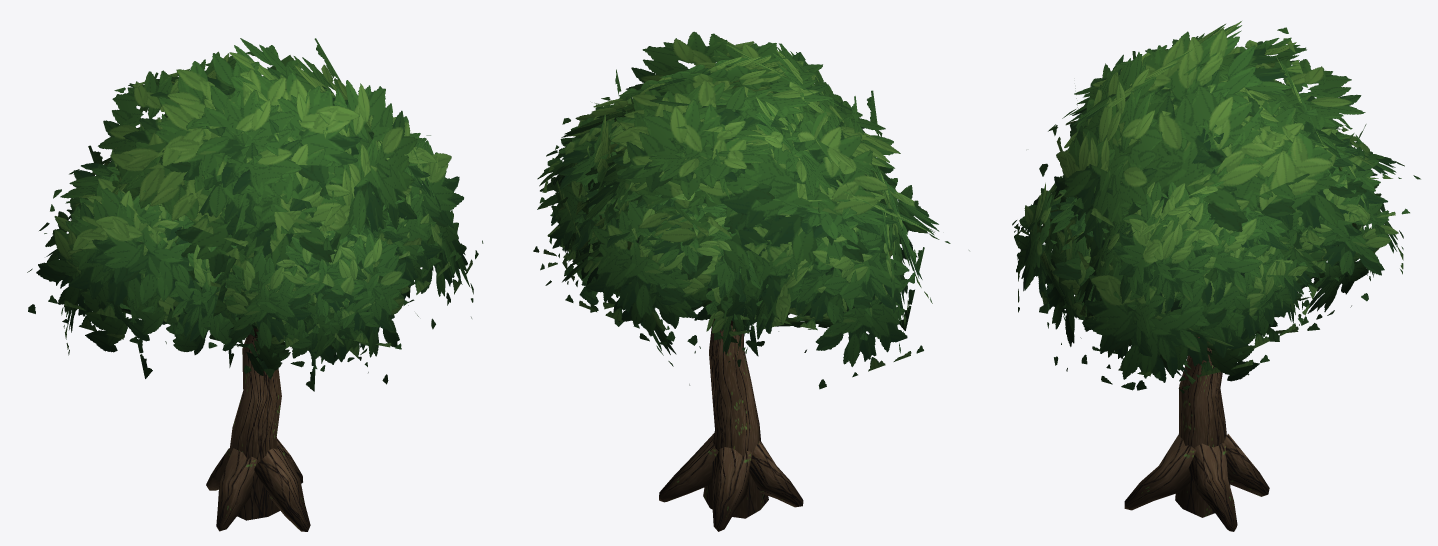
Rendered from tree_oak_dark.glb.
The picture shows the model from 3 angles, left to right: view 1: azimuth 30°, elevation 25°; view 2: azimuth 150°, elevation 25°; view 3: azimuth 270°, elevation 25°; orthographic projection. The views are drawn at different scales.
Parts seen in each view (by area): view 1: tree_oak_dark; view 2: tree_oak_dark; view 3: tree_oak_dark.
Part boxes in pixels (<box>): tree_oak_dark: <box>27,38,483,531</box>; tree_oak_dark: <box>533,31,969,531</box>; tree_oak_dark: <box>1012,21,1420,531</box>.
Bounding box in the file's own units: 4.78 × 5.04 × 4.03.
Materials: 2 (2 with a texture image).
